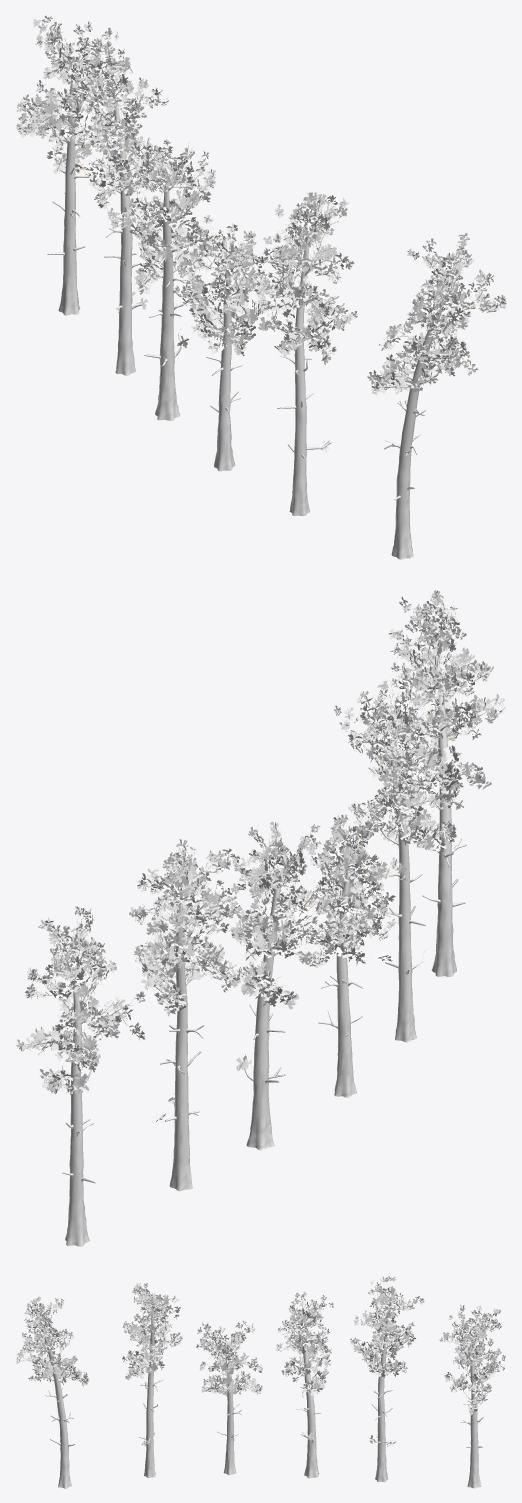
The model's file is Conifer.FBX.
The picture shows the model from 3 angles, top to bottom: view 1: azimuth 30°, elevation 25°; view 2: azimuth 150°, elevation 25°; view 3: azimuth 270°, elevation 25°; orthographic projection. The views are drawn at different scales.
Parts seen in each view (by area): view 1: Conifer_5, Conifer_4, Conifer_1, Conifer_3, Conifer_6, Conifer_2; view 2: Conifer_3, Conifer_4, Conifer_5, Conifer_1, Conifer_6, Conifer_2; view 3: Conifer_3, Conifer_5, Conifer_6, Conifer_1, Conifer_4, Conifer_2.
Boxes of the visible parts, x1,y1,x2,y2 form: Conifer_5: (367,232,506,559); Conifer_4: (249,192,357,516); Conifer_1: (107,134,225,420); Conifer_3: (69,47,172,375); Conifer_6: (16,15,125,315); Conifer_2: (170,215,286,471); Conifer_3: (129,839,242,1191); Conifer_4: (334,678,466,1042); Conifer_5: (376,590,505,976); Conifer_1: (226,822,336,1150); Conifer_6: (16,906,145,1246); Conifer_2: (306,803,406,1097); Conifer_3: (350,1276,424,1482); Conifer_5: (15,1296,89,1488); Conifer_6: (439,1304,506,1488); Conifer_1: (275,1291,333,1478); Conifer_4: (122,1283,182,1477); Conifer_2: (196,1320,262,1475).
Size of the model in its own units: 9881 by 18174 by 41146.
